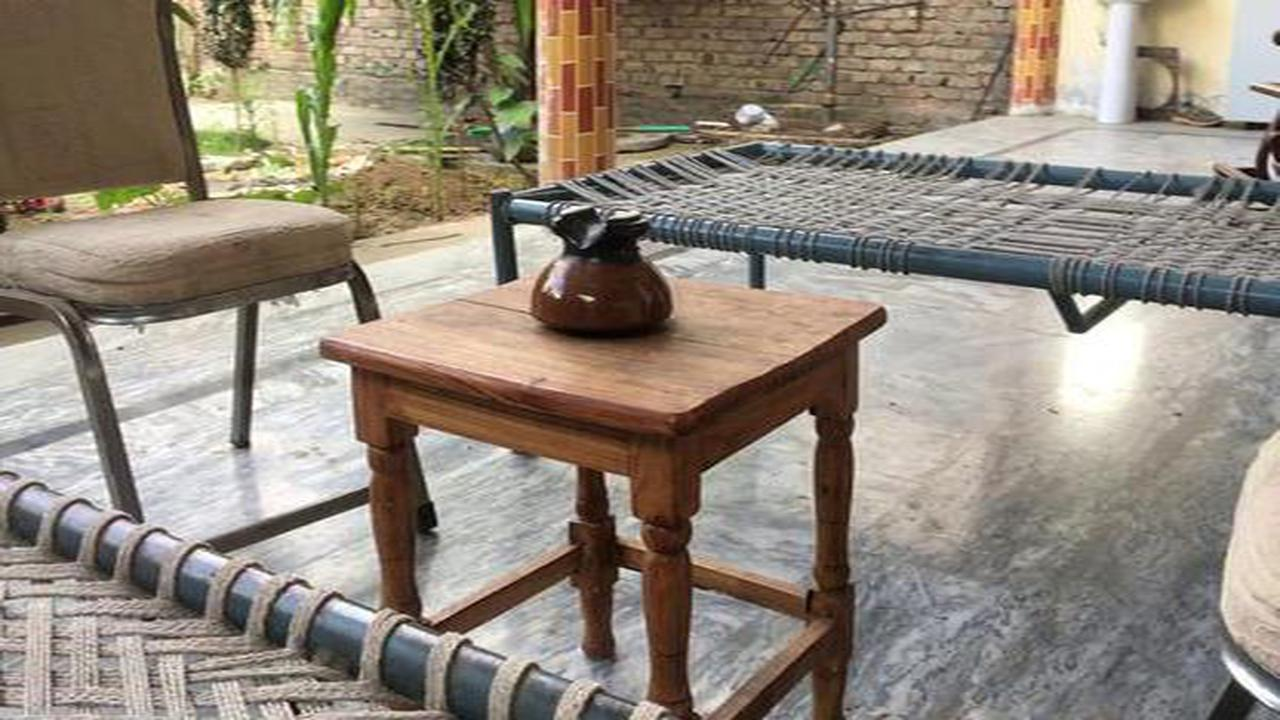insulator_pin: (502, 193, 696, 354)
